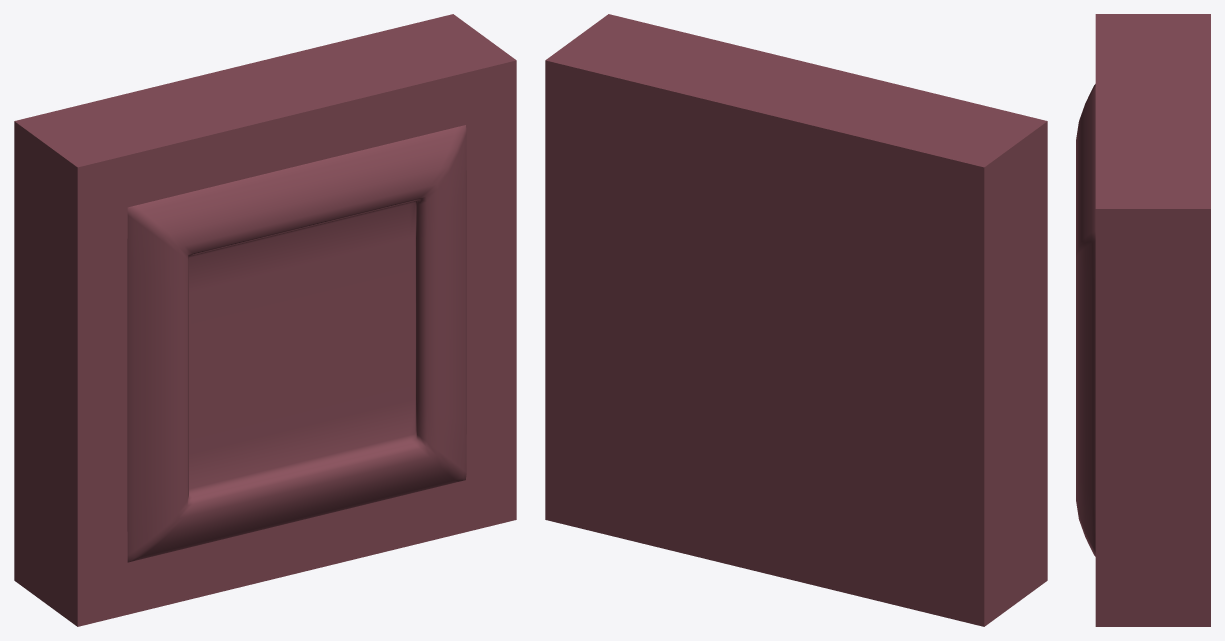
The model's file is WoodenWallDecoAsset.fbx.
3 renders of one model, left to right at view 1: azimuth 30°, elevation 25°; view 2: azimuth 150°, elevation 25°; view 3: azimuth 270°, elevation 25°, orthographic. The views are drawn at different scales.
Parts seen in each view (by area): view 1: Cube.124; view 2: Cube.124; view 3: Cube.124.
Part boxes in pixels (box(x1,y1,x2,y2)): Cube.124: box(14, 14, 516, 626); Cube.124: box(545, 14, 1047, 626); Cube.124: box(1076, 14, 1210, 626).
Size of the model in its own units: 100 by 29.21 by 100.
